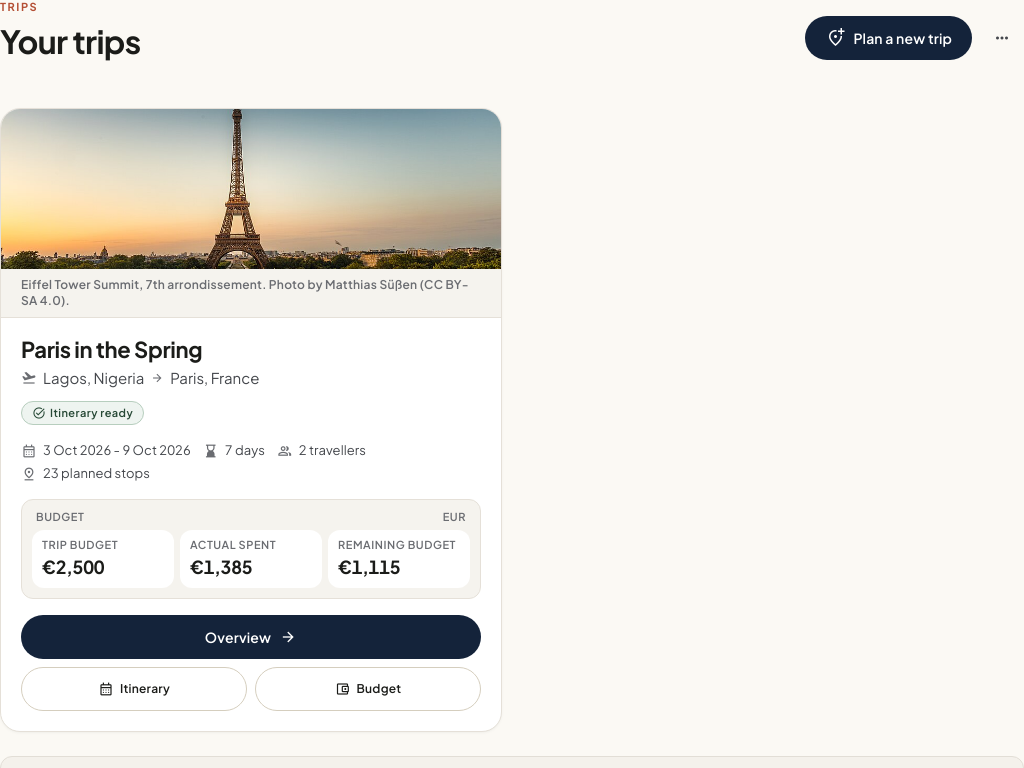
Scenario: TripsHomePage › clearing everything on this device › lists every trip that will be lost, and can be cancelled
The image size is (1024, 768).
What coordinates should you click on to do the following:
click the button named "Sample data and reset options"
I would click on:
 (1002, 38)
Its box is [980,16,1023,60].
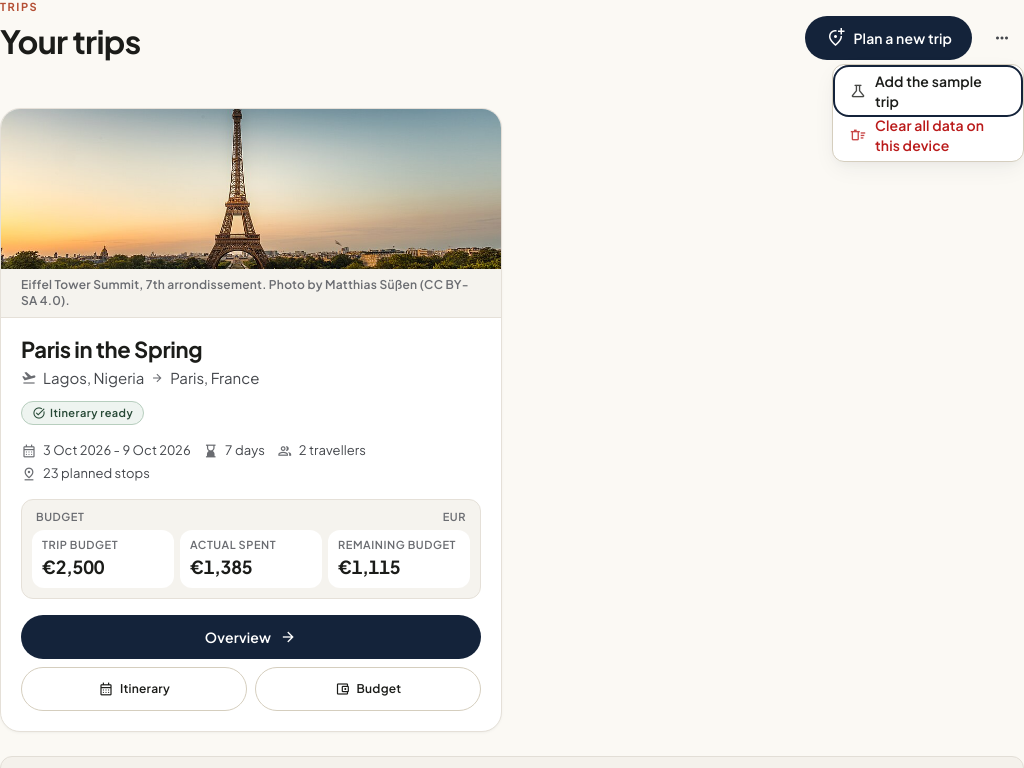
What coordinates should you click on to do the following:
click the menu item "Clear all data on this device"
I would click on:
 (928, 135)
Its box is [837,113,1019,157].
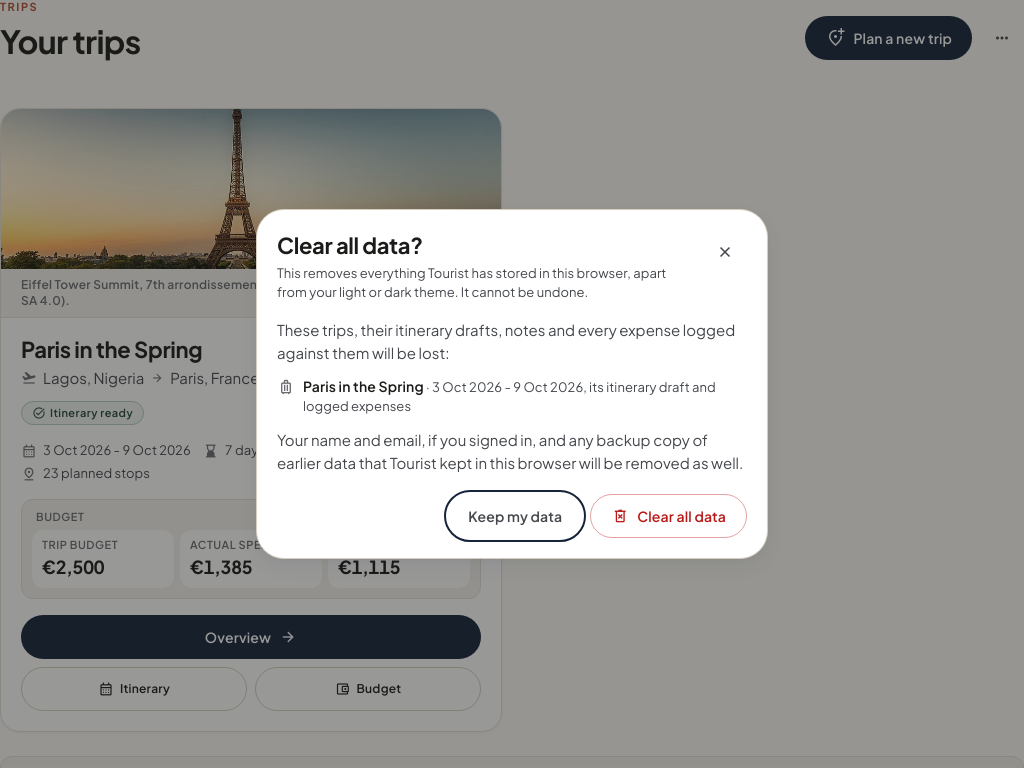
Now the text "Paris in the Spring" is shown, box [303,377,424,395]
What coordinates should you click on to do the following:
click the button "Keep my data"
I would click on:
 (515, 516)
Its box is [448,494,582,538].
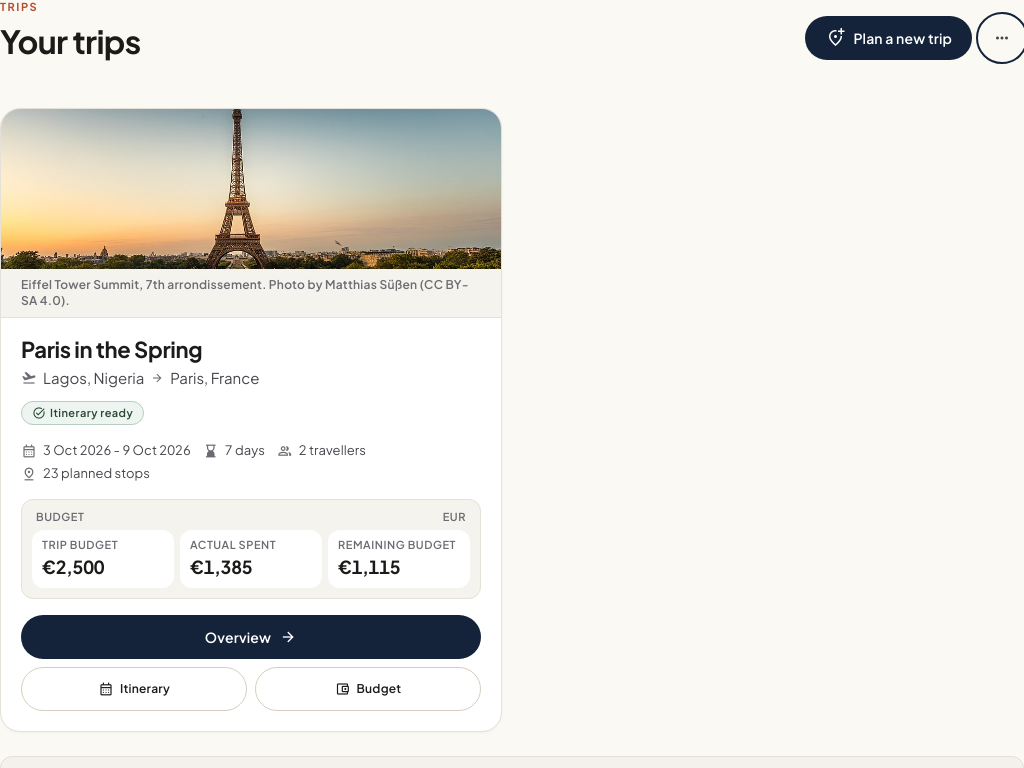
Expected: the heading "Paris in the Spring" is shown, [21,335,202,363]
Now the dialog is gone
